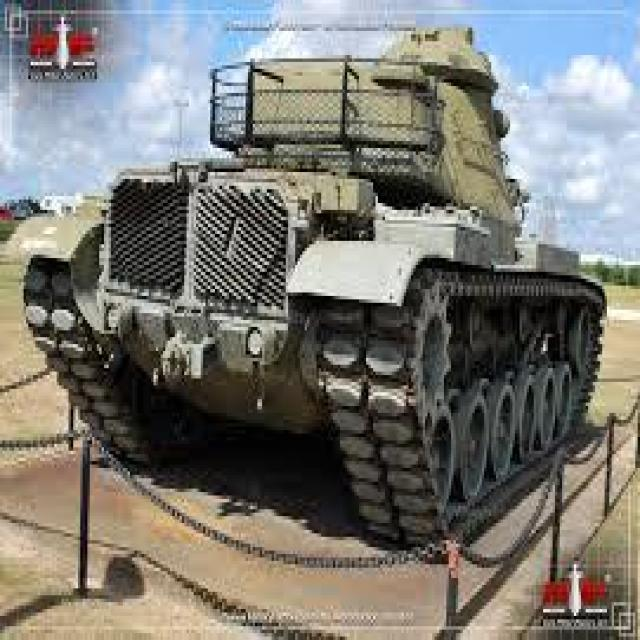Tanks: (22, 39, 606, 546)
